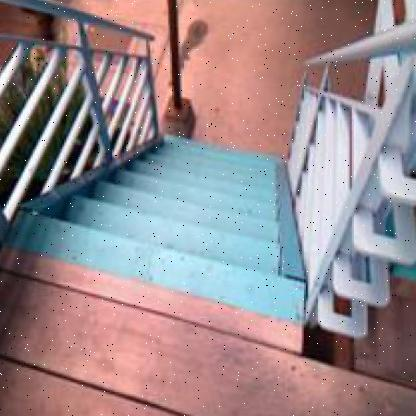stair_down: (15, 168, 298, 357)
